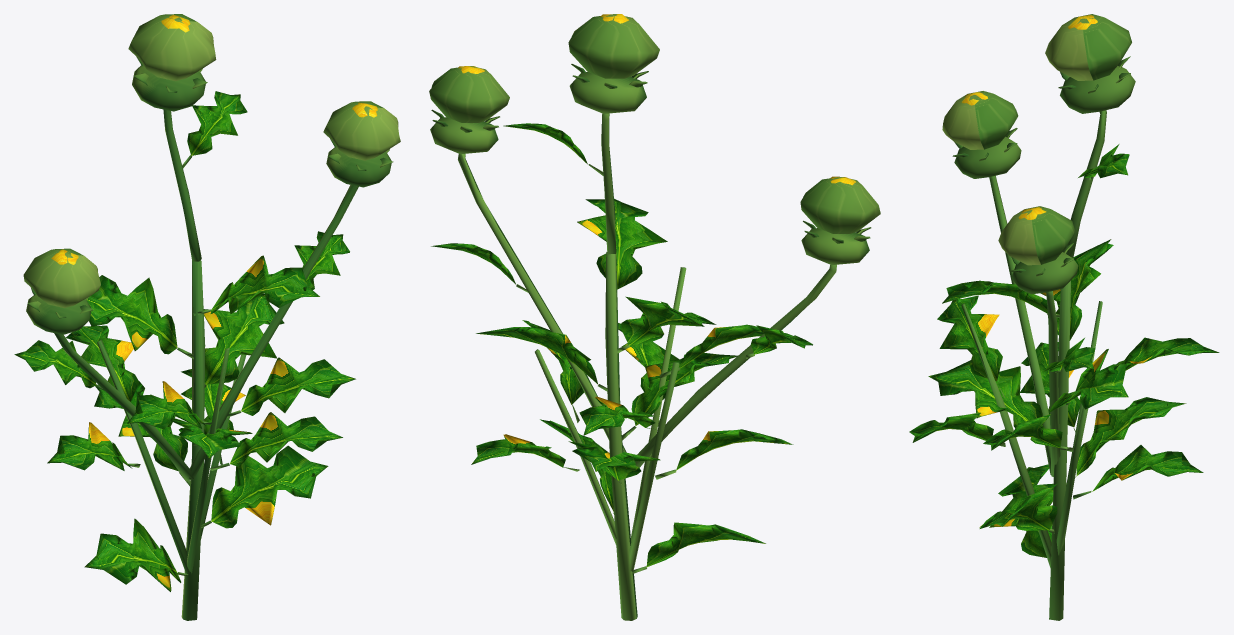
Rendered from NP_Chrysanthemum_BudForming_LOD1.fbx.
3 views of the same model, side by side, from view 1: azimuth 30°, elevation 25°; view 2: azimuth 150°, elevation 25°; view 3: azimuth 270°, elevation 25° (orthographic). The views are drawn at different scales.
Visible parts, largest first — view 1: NP_Chrysanthemum_BudForming; view 2: NP_Chrysanthemum_BudForming; view 3: NP_Chrysanthemum_BudForming.
Boxes of the visible parts, box(x1,y1,x2,y2) form: NP_Chrysanthemum_BudForming: box(14, 14, 400, 620); NP_Chrysanthemum_BudForming: box(429, 14, 880, 620); NP_Chrysanthemum_BudForming: box(909, 14, 1219, 620).
Bounding box in the file's own units: 53.06 × 75.46 × 35.49.
